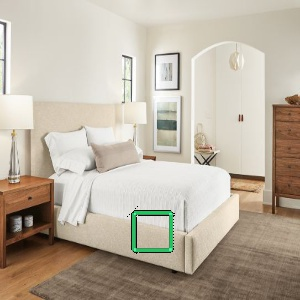square: (129, 208, 177, 255)
